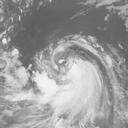cyclone: (32, 33, 117, 117)
